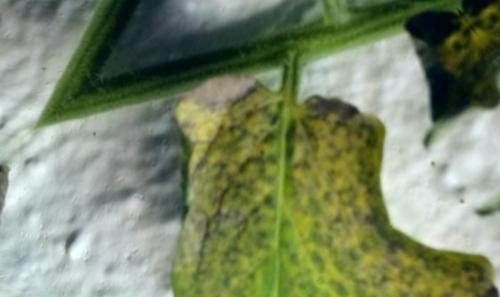Tomato leaf bacterial spot: (72, 19, 435, 297)
